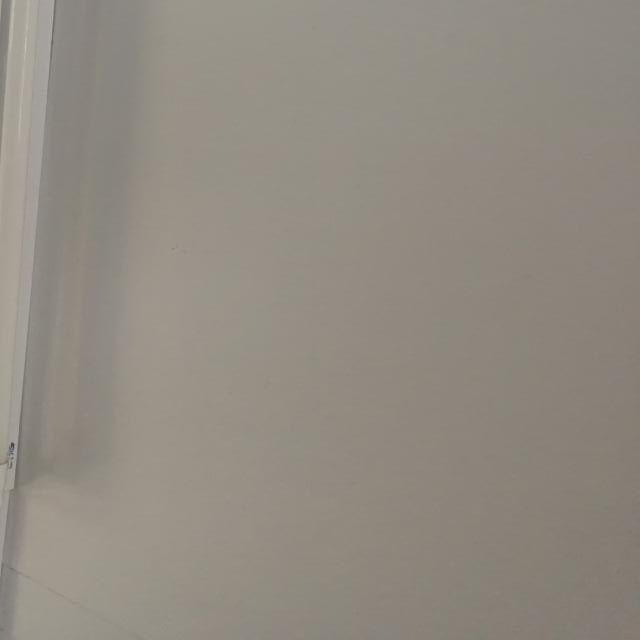fluorescent tube: (0, 0, 118, 581)
